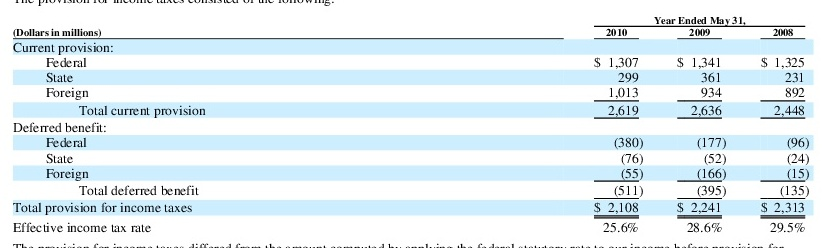table: (0, 0, 825, 248)
